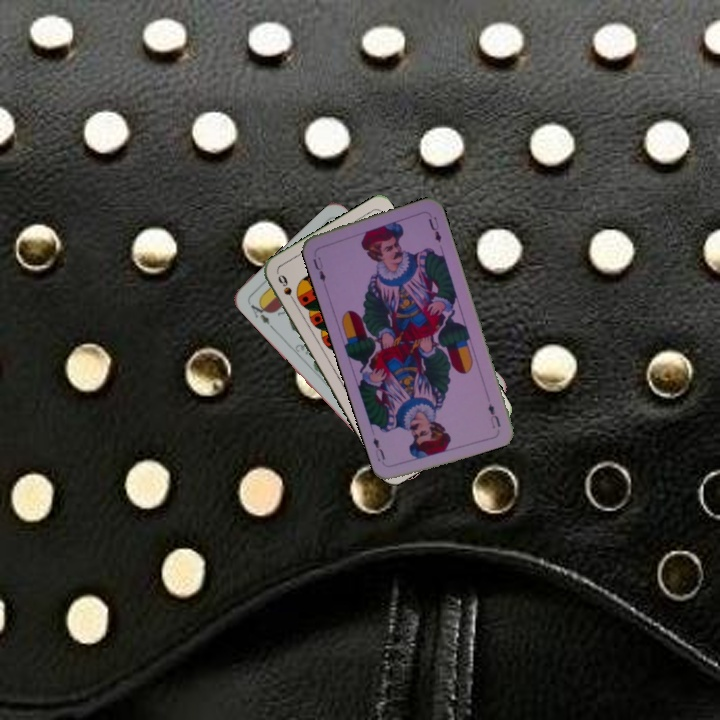EA: (246, 297, 276, 331)
EU: (309, 253, 328, 285), (484, 399, 503, 431)
S9: (274, 270, 299, 307)
